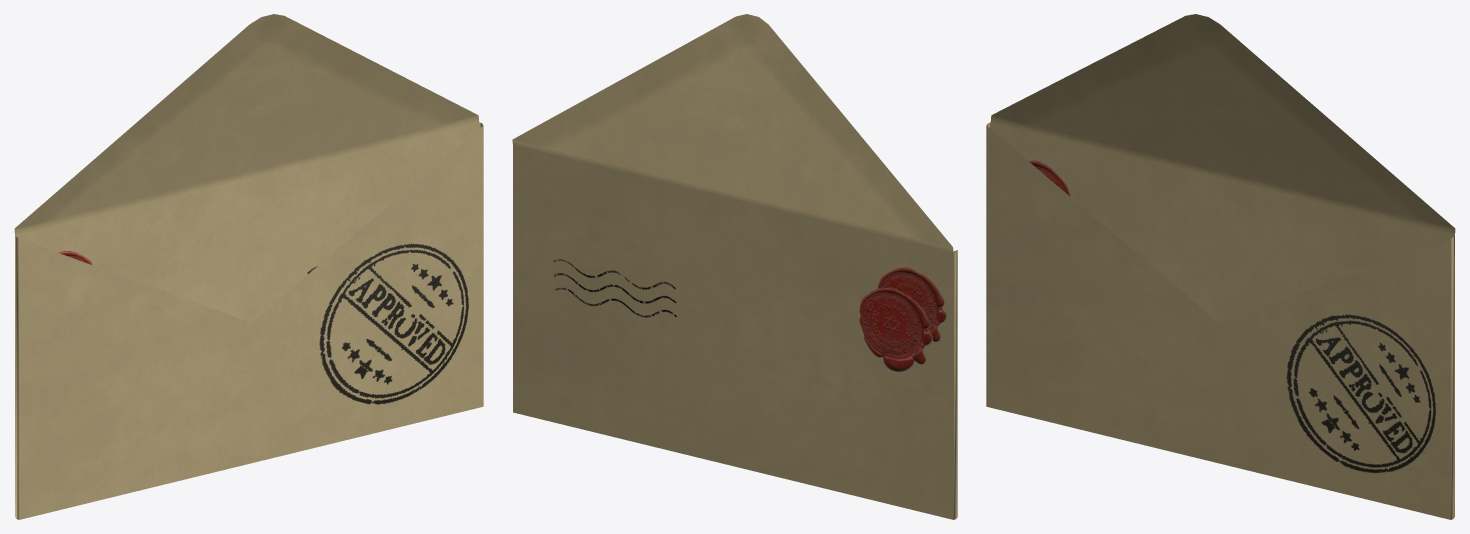
3 renders of one model, left to right at view 1: azimuth 30°, elevation 25°; view 2: azimuth 150°, elevation 25°; view 3: azimuth 330°, elevation 25°, orthographic. The views are drawn at different scales.
Parts seen in each view (by area): view 1: SM_Envelope; view 2: SM_Envelope; view 3: SM_Envelope.
Part boxes in pixels (box(x1,y1,x2,y2)): SM_Envelope: box(14, 14, 483, 519); SM_Envelope: box(512, 14, 957, 519); SM_Envelope: box(986, 14, 1455, 519).
Bounding box in the file's own units: 2 × 1.89 × 0.1576.
1 material, 1 textured.
